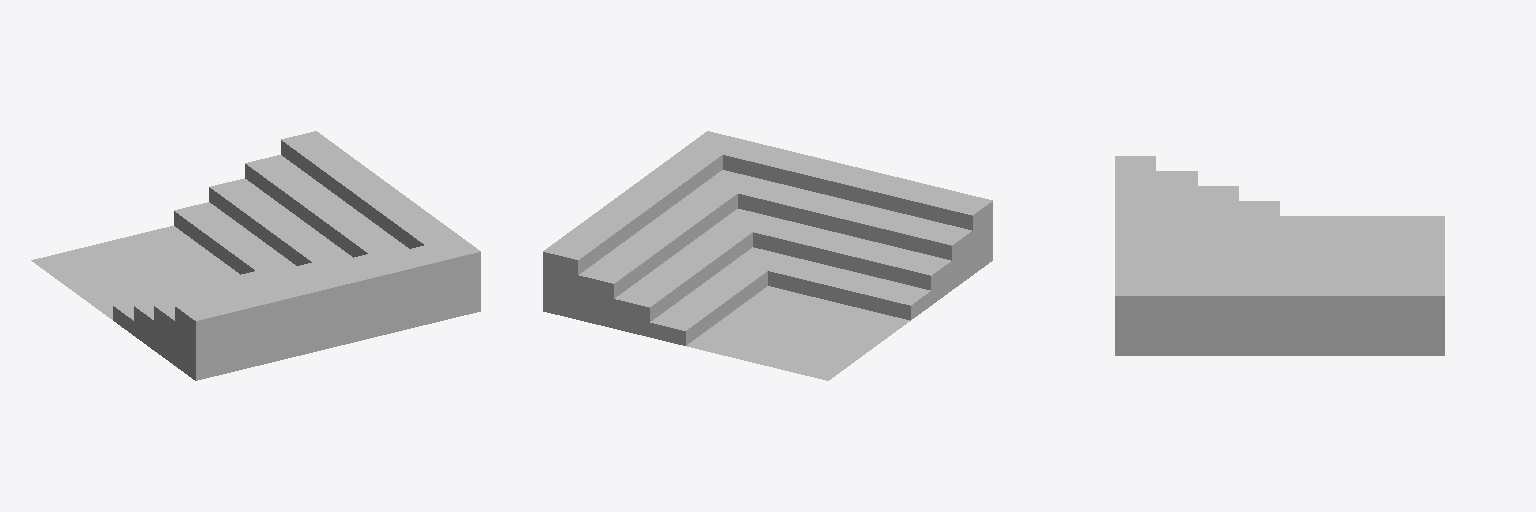
The model's file is floor_stepsCornerInner.obj.
3 views of the same model, side by side, from view 1: azimuth 30°, elevation 25°; view 2: azimuth 150°, elevation 25°; view 3: azimuth 270°, elevation 25° (orthographic).
Parts seen in each view (by area): view 1: floor_stepsCornerInner; view 2: floor_stepsCornerInner; view 3: floor_stepsCornerInner.
Part boxes in pixels (bbox=[...]): floor_stepsCornerInner: bbox=[31, 131, 480, 380]; floor_stepsCornerInner: bbox=[543, 131, 992, 380]; floor_stepsCornerInner: bbox=[1115, 156, 1444, 355].
Size of the model in its own units: 1 by 0.2 by 1.